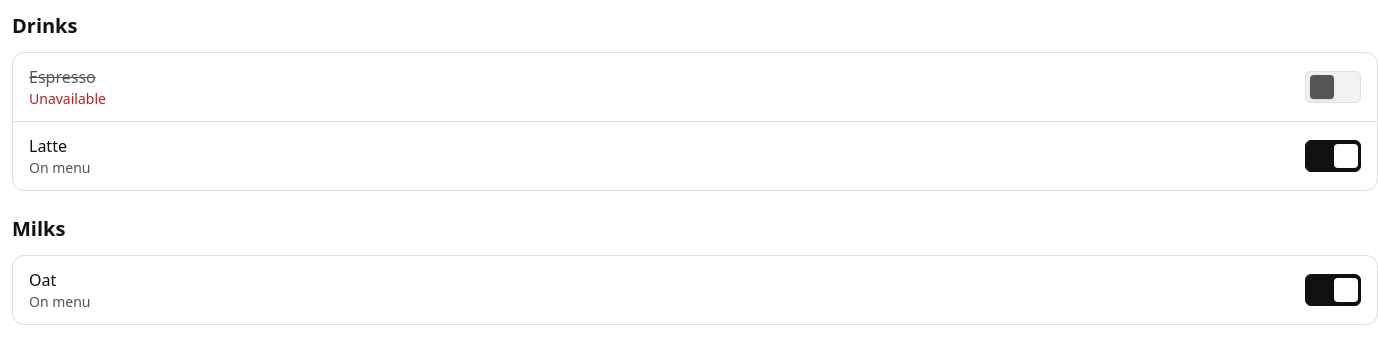
BaristaAvailability › turns a drink off and sends the change to the server
Click the switch named "Latte" in the row of "Latte". click: (1333, 156)
box: top-left (1305, 140), bottom-right (1361, 172)
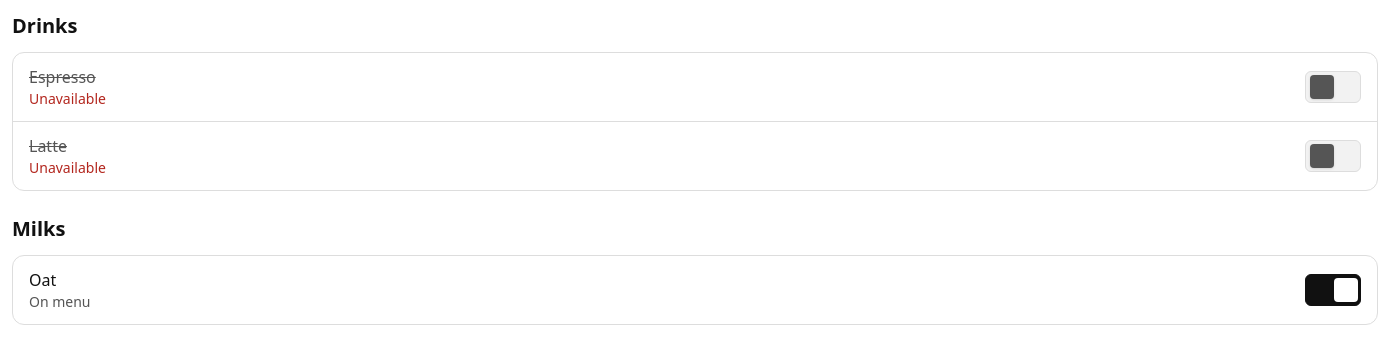
expect the text "Unavailable" below "Latte" is shown: met, box top-left (29, 158), bottom-right (106, 177)
